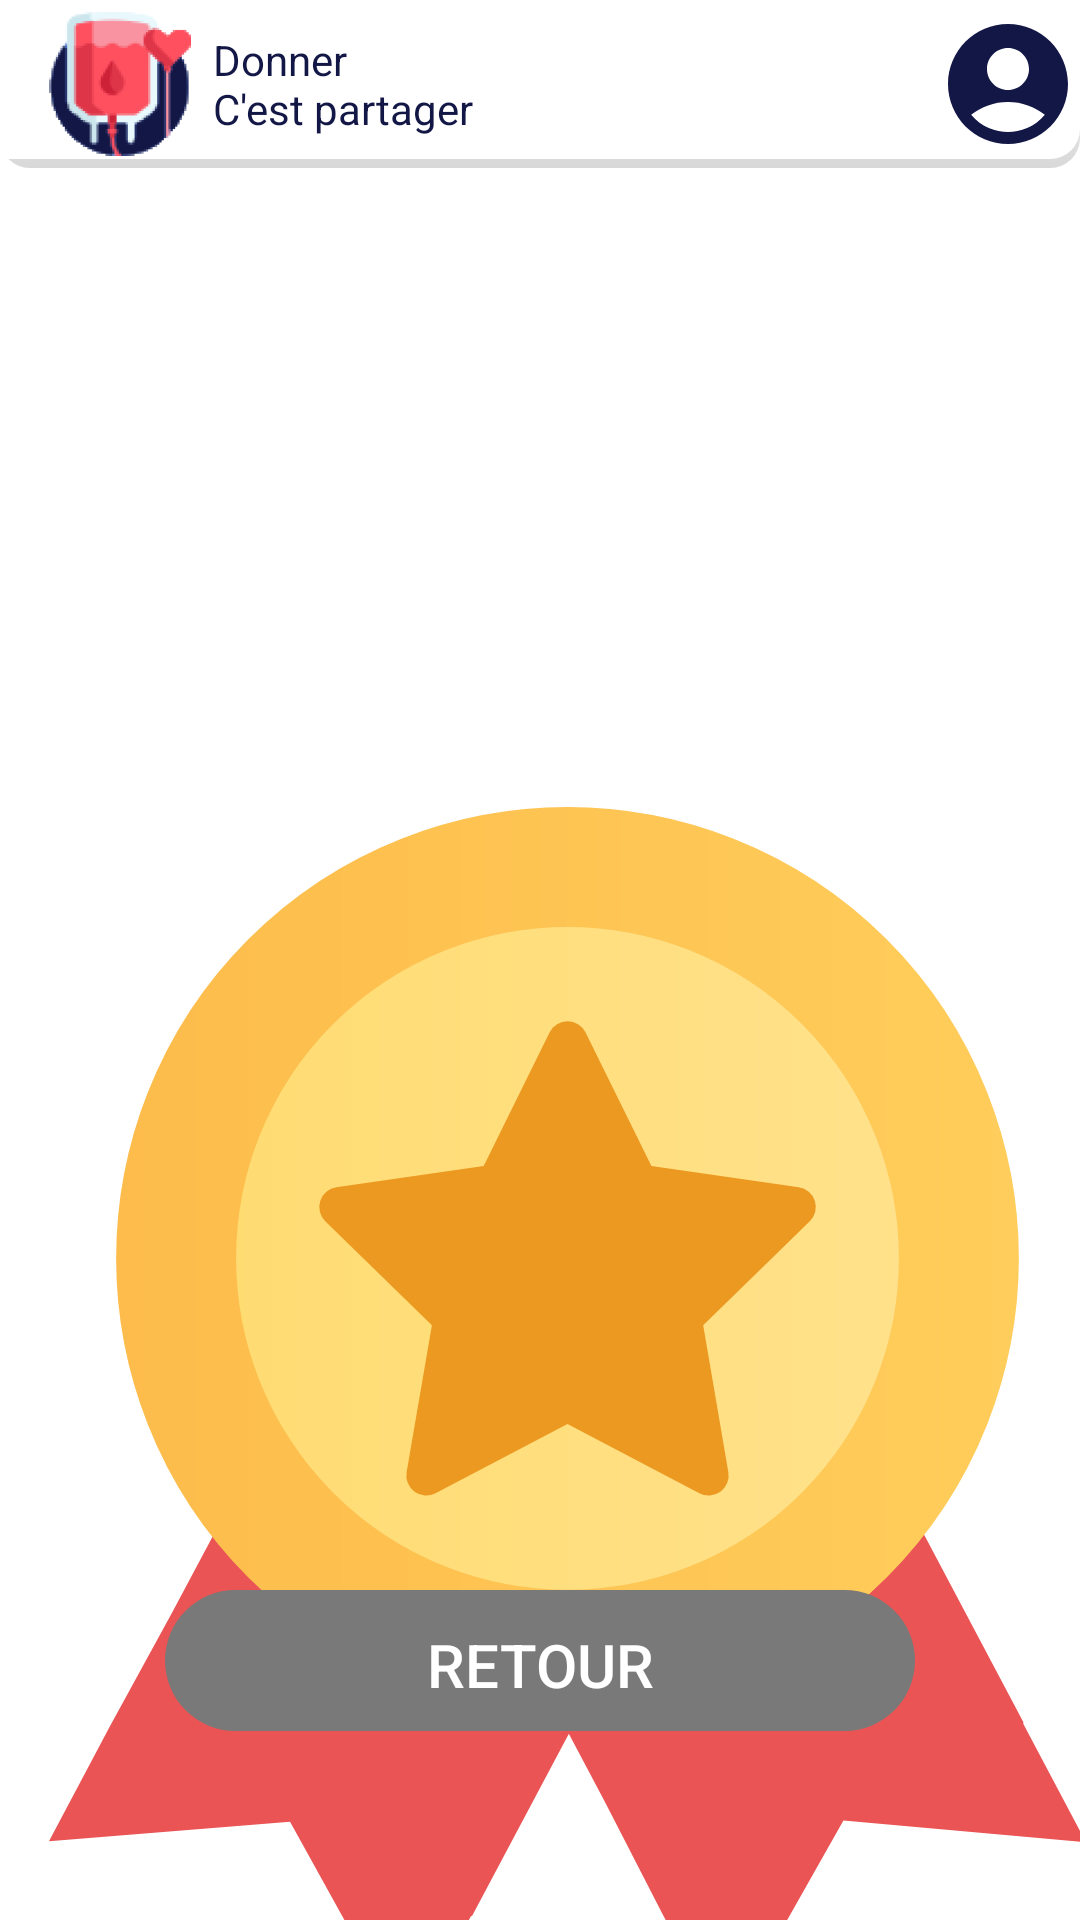

Icons on this 1080x1920 Android screen, each with its box as (x1, y1, x2, y2):
Connection: (948, 24, 1068, 144)
